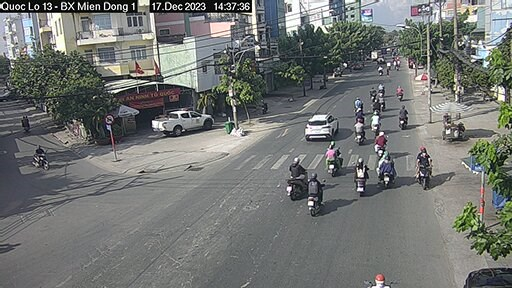car: (155, 110, 216, 141), (305, 112, 338, 141)
motorbike: (279, 152, 306, 205), (407, 148, 434, 191), (328, 138, 349, 178), (304, 178, 324, 209), (33, 143, 52, 171), (397, 104, 414, 131), (354, 162, 367, 191), (380, 150, 392, 180), (354, 116, 365, 148), (373, 127, 386, 151)
